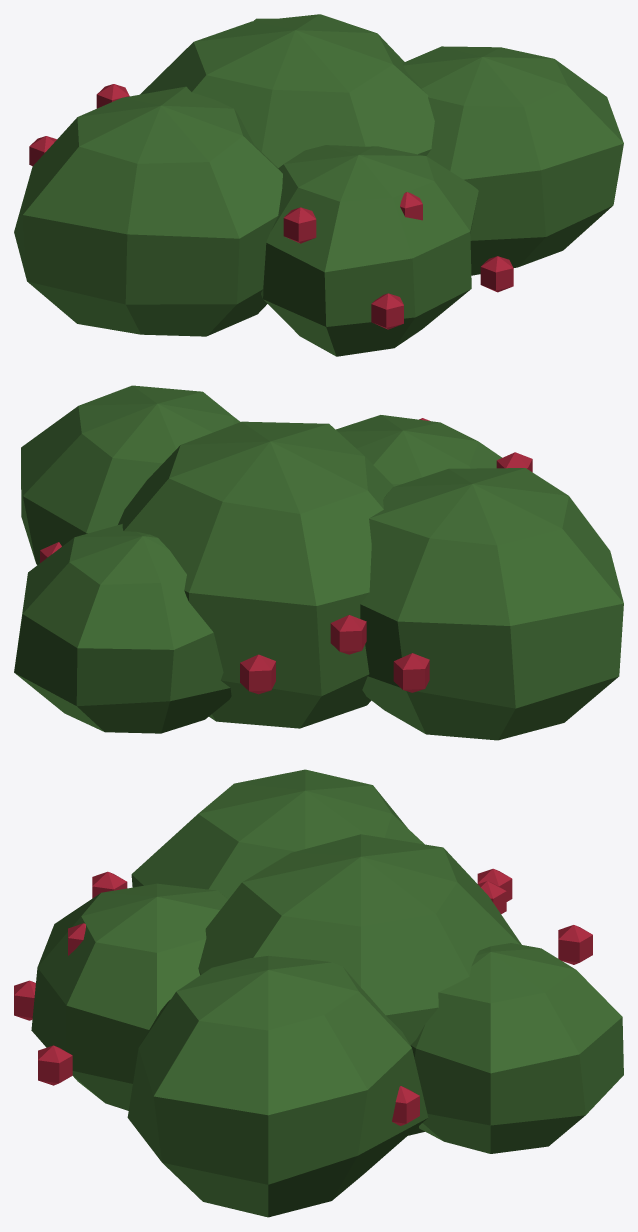
The model's file is berry_bush_3.glb.
The picture shows the model from 3 angles, top to bottom: view 1: azimuth 30°, elevation 25°; view 2: azimuth 150°, elevation 25°; view 3: azimuth 270°, elevation 25°; orthographic projection. The views are drawn at different scales.
Parts seen in each view (by area): view 1: berry_bush_3; view 2: berry_bush_3; view 3: berry_bush_3.
Boxes of the visible parts, left/top/right/bottom form: berry_bush_3: left=14, top=14, right=623, bottom=356; berry_bush_3: left=14, top=385, right=623, bottom=740; berry_bush_3: left=14, top=769, right=623, bottom=1217.
Size of the model in its own units: 1.96 by 0.8 by 1.65.
